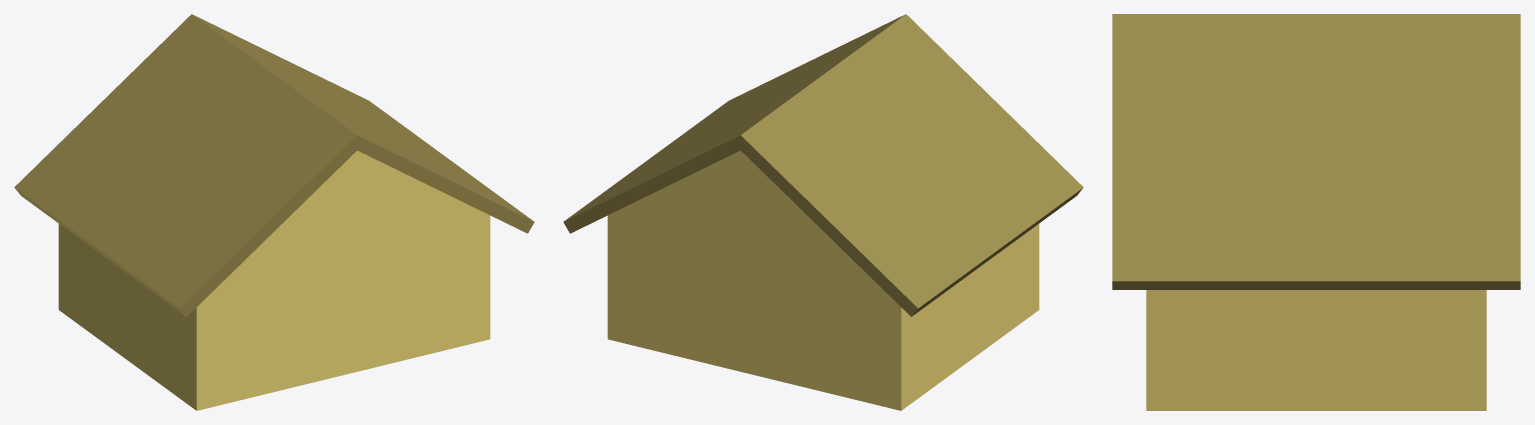
File: result.glb
The picture shows the model from 3 angles, left to right: view 1: azimuth 30°, elevation 25°; view 2: azimuth 150°, elevation 25°; view 3: azimuth 270°, elevation 25°; orthographic projection. The views are drawn at different scales.
Parts seen in each view (by area): view 1: bd49c759-33a3-40d2-b5d9-bd8e604d1d6c__undefined (×2), 54b76950-5ed2-4b21-9905-79d67ea2fdf3__undefined; view 2: bd49c759-33a3-40d2-b5d9-bd8e604d1d6c__undefined (×2), 54b76950-5ed2-4b21-9905-79d67ea2fdf3__undefined; view 3: bd49c759-33a3-40d2-b5d9-bd8e604d1d6c__undefined, 54b76950-5ed2-4b21-9905-79d67ea2fdf3__undefined.
Boxes of the visible parts, x1,y1,x2,y2 form: bd49c759-33a3-40d2-b5d9-bd8e604d1d6c__undefined (×2): (14,14,534,316); 54b76950-5ed2-4b21-9905-79d67ea2fdf3__undefined: (58,150,490,410); bd49c759-33a3-40d2-b5d9-bd8e604d1d6c__undefined (×2): (563,14,1083,316); 54b76950-5ed2-4b21-9905-79d67ea2fdf3__undefined: (607,150,1039,410); bd49c759-33a3-40d2-b5d9-bd8e604d1d6c__undefined: (1112,14,1520,289); 54b76950-5ed2-4b21-9905-79d67ea2fdf3__undefined: (1146,290,1486,410).
Size of the model in its own units: 743 by 500 by 600.
